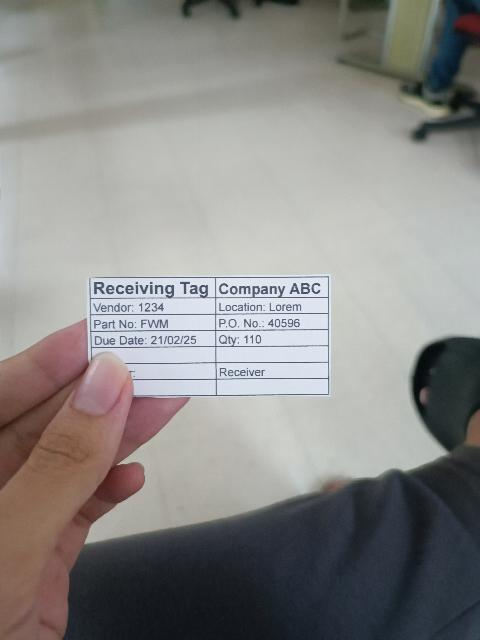PO no: (215, 314, 330, 330)
part no: (90, 314, 216, 332)
qty: (216, 329, 329, 347)
tags: (87, 274, 330, 397)
